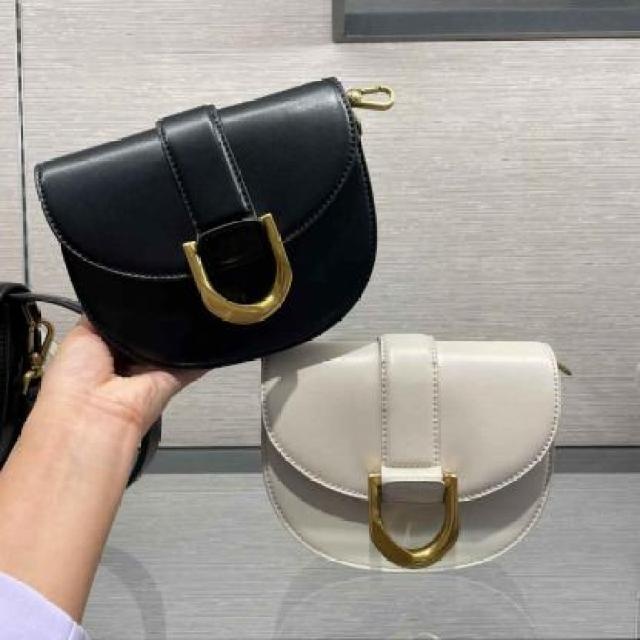Bag: (0, 74, 397, 386), (220, 291, 578, 592)
